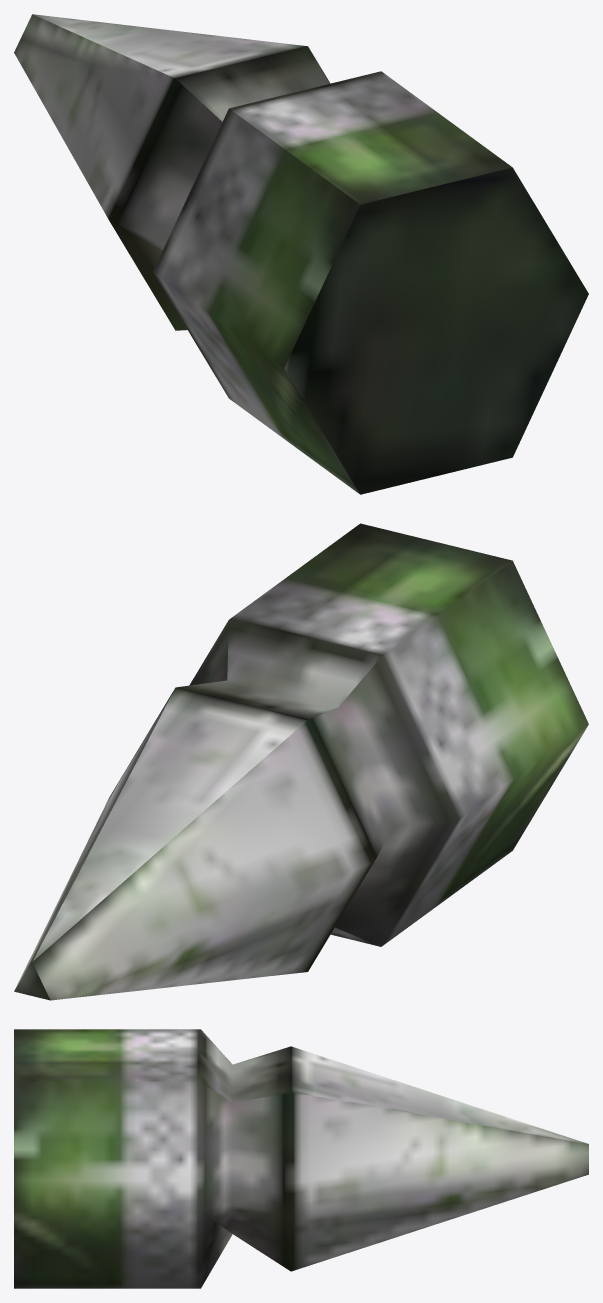
File: gun11_rocket.obj
3 renders of one model, top to bottom at view 1: azimuth 30°, elevation 25°; view 2: azimuth 150°, elevation 25°; view 3: azimuth 270°, elevation 25°, orthographic. The views are drawn at different scales.
Parts seen in each view (by area): view 1: gun11_rocket; view 2: gun11_rocket; view 3: gun11_rocket.
Boxes of the visible parts, left/top/right/bottom form: gun11_rocket: left=14, top=14, right=588, bottom=494; gun11_rocket: left=14, top=523, right=588, bottom=1000; gun11_rocket: left=14, top=1029, right=588, bottom=1288.
Bounding box in the file's own units: 0.2094 × 0.1905 × 0.4811.
1 material, 1 textured.
